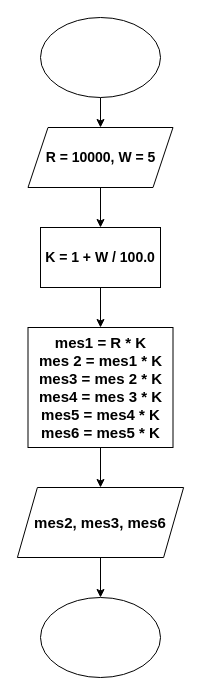
The diagram is 202 pixels wide and 695 high, and some of its shapes have lost their labels. The centre of each missing label's shape, as x and y in pixels:
"КОНЕЦ" goes at [100,637].
"НАЧАЛО" goes at [100,57].
